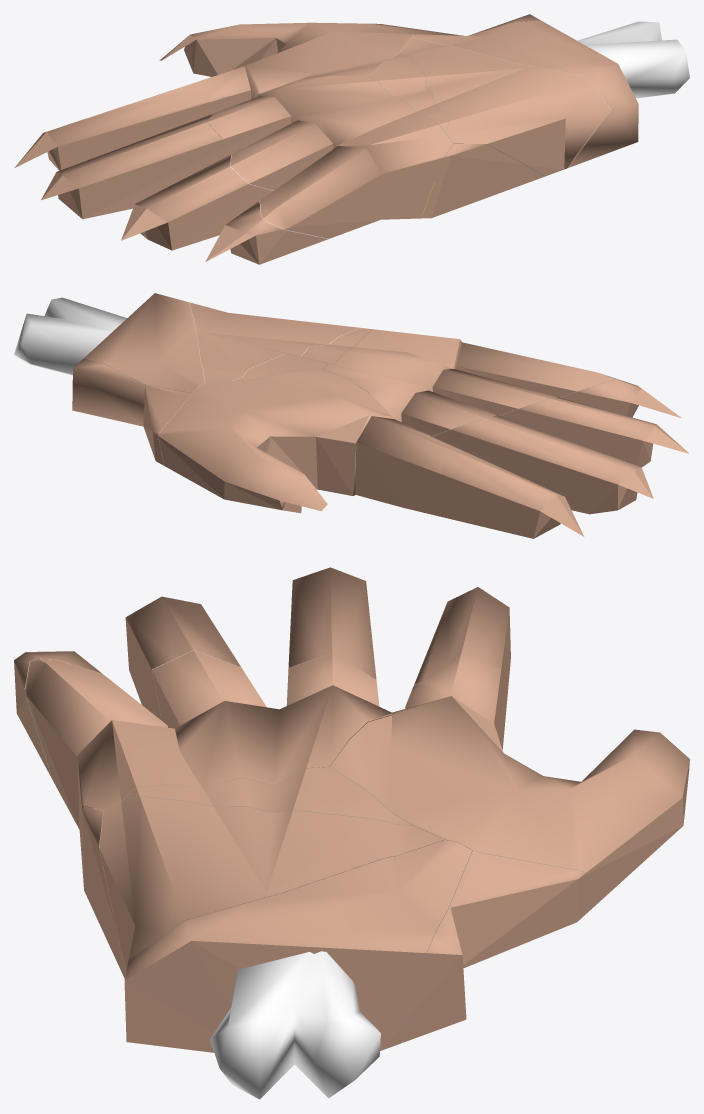
The model's file is HandGibs.fbx.
3 views of the same model, one above another, from view 1: azimuth 30°, elevation 25°; view 2: azimuth 150°, elevation 25°; view 3: azimuth 270°, elevation 25° (orthographic). The views are drawn at different scales.
Visible parts, largest first — view 1: Hand_Final5_cell.008, Hand_Final5_cell.006, Hand_Final5_cell.005, Hand_Final5_cell.014, Hand_Final5_cell.001, Hand_Final5_cell.011, Hand_Final5_cell.016, Hand_Final5_cell.002, Hand_Final5_cell.010, Hand_Final5_cell.012, Hand_Final5_cell.015, Hand_Final5_cell.007 (+2 smaller); view 2: Hand_Final5_cell.005, Hand_Final5_cell.011, Hand_Final5_cell.008, Hand_Final5_cell.014, Hand_Final5_cell.001, Hand_Final5_cell.006, Hand_Final5_cell.016, Hand_Final5_cell.004, Hand_Final5_cell.002, Hand_Final5_cell.012, Hand_Final5_cell.007, Hand_Final5_cell (+1 smaller); view 3: Hand_Final5_cell.005, Hand_Final5_cell.001, Hand_Final5_cell.008, Hand_Final5_cell.006, Hand_Final5_cell.002, Hand_Final5_cell.004, Hand_Final5_cell.011, Hand_Final5_cell.014, Hand_Final5_cell, Hand_Final5_cell.016, Hand_Final5_cell.012, Hand_Final5_cell.007 (+2 smaller).
Part boxes in pixels (x1,y1,x2,y2): Hand_Final5_cell.008: [257, 75, 452, 238]; Hand_Final5_cell.006: [403, 37, 610, 181]; Hand_Final5_cell.005: [159, 22, 411, 98]; Hand_Final5_cell.014: [41, 113, 244, 219]; Hand_Final5_cell.001: [410, 21, 638, 168]; Hand_Final5_cell.011: [14, 66, 251, 170]; Hand_Final5_cell.016: [121, 155, 273, 250]; Hand_Final5_cell.002: [577, 21, 689, 98]; Hand_Final5_cell.010: [421, 144, 544, 218]; Hand_Final5_cell.012: [230, 120, 333, 190]; Hand_Final5_cell.015: [205, 201, 328, 264]; Hand_Final5_cell.007: [207, 96, 291, 147]; Hand_Final5_cell.005: [158, 369, 394, 513]; Hand_Final5_cell.011: [355, 416, 584, 538]; Hand_Final5_cell.008: [323, 329, 616, 422]; Hand_Final5_cell.014: [433, 415, 653, 514]; Hand_Final5_cell.001: [84, 293, 205, 392]; Hand_Final5_cell.006: [189, 302, 360, 385]; Hand_Final5_cell.016: [499, 397, 689, 467]; Hand_Final5_cell.004: [72, 358, 191, 465]; Hand_Final5_cell.002: [14, 297, 126, 375]; Hand_Final5_cell.012: [432, 369, 556, 415]; Hand_Final5_cell.007: [401, 390, 496, 436]; Hand_Final5_cell: [234, 328, 372, 380]; Hand_Final5_cell.005: [330, 696, 689, 909]; Hand_Final5_cell.001: [124, 840, 472, 1052]; Hand_Final5_cell.008: [25, 658, 394, 891]; Hand_Final5_cell.006: [99, 796, 444, 971]; Hand_Final5_cell.002: [210, 951, 380, 1099]; Hand_Final5_cell.004: [402, 850, 590, 1042]; Hand_Final5_cell.011: [405, 587, 510, 749]; Hand_Final5_cell.014: [288, 567, 376, 678]; Hand_Final5_cell: [123, 767, 413, 825]; Hand_Final5_cell.016: [125, 596, 241, 720]; Hand_Final5_cell.012: [152, 650, 266, 728]; Hand_Final5_cell.007: [286, 653, 379, 706].
Size of the model in its own units: 552 by 77.11 by 324.
